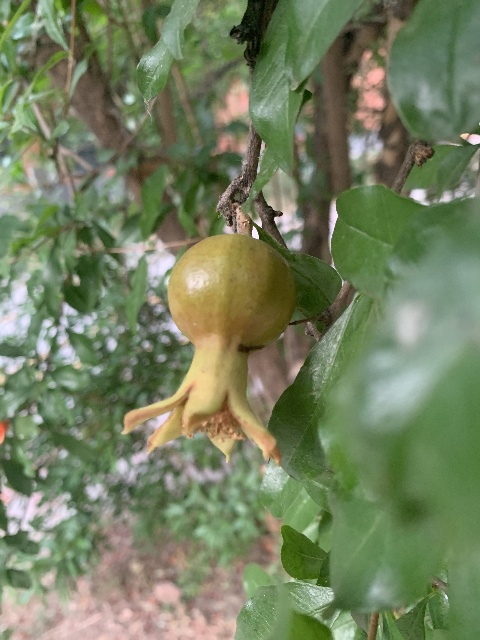mid-growth: (121, 233, 296, 466)
